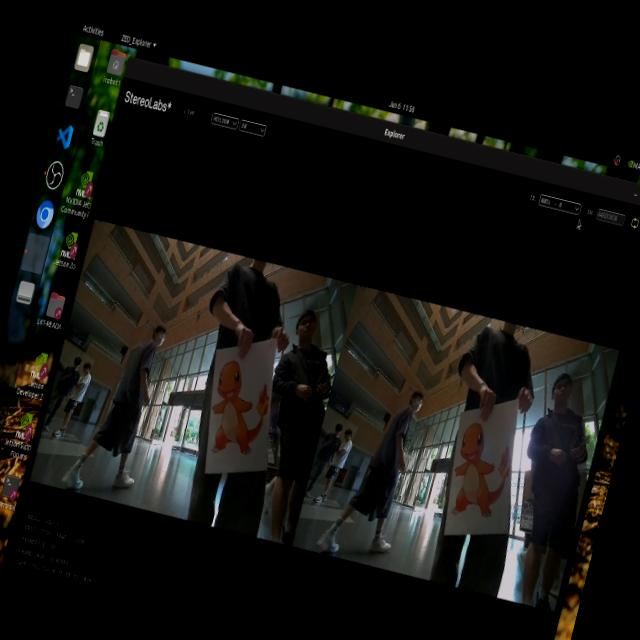red: (194, 339, 288, 461), (434, 406, 523, 525)
